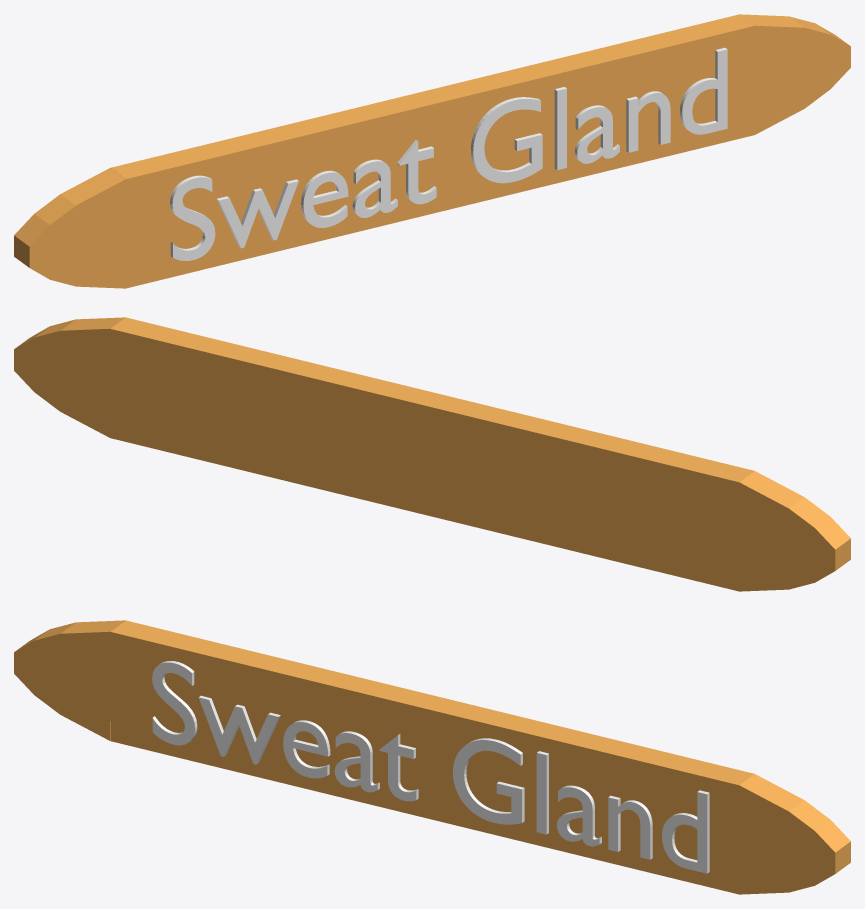
File: txtSweatGland.fbx
The picture shows the model from 3 angles, top to bottom: view 1: azimuth 30°, elevation 25°; view 2: azimuth 150°, elevation 25°; view 3: azimuth 330°, elevation 25°; orthographic projection.
Visible parts, largest first — view 1: TagContainer.029, Text.028; view 2: TagContainer.029; view 3: TagContainer.029, Text.028.
Boxes of the visible parts, <box> form: TagContainer.029: <box>14,14,850,288</box>; Text.028: <box>170,47,727,260</box>; TagContainer.029: <box>14,317,850,591</box>; TagContainer.029: <box>14,620,850,894</box>; Text.028: <box>152,661,709,873</box>.
Size of the model in its own units: 227 by 28.89 by 8.61.
